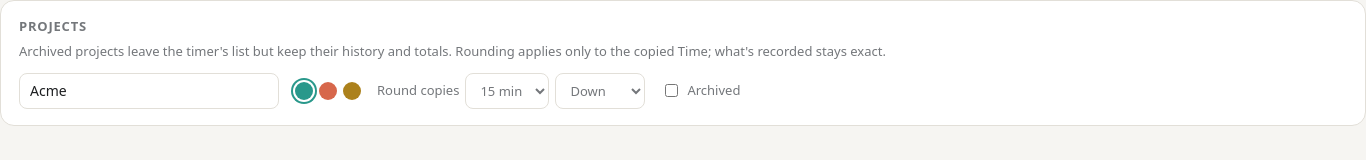
it: ProjectSettings rounding › turning it off keeps the direction
The image size is (1366, 160).
Select "Off" in the dropdown named "Acme: round copied time to" at (507, 91), box [465,73,549,109]
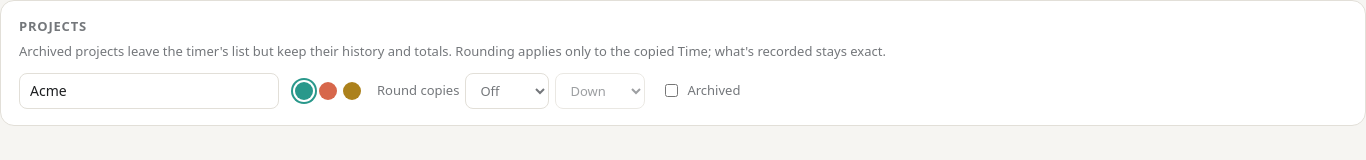
Check: the dropdown named "Acme: round copied time" shows "Down", box [555,73,645,109]
Check: the dropdown named "Acme: round copied time" is disabled, box [555,73,645,109]
